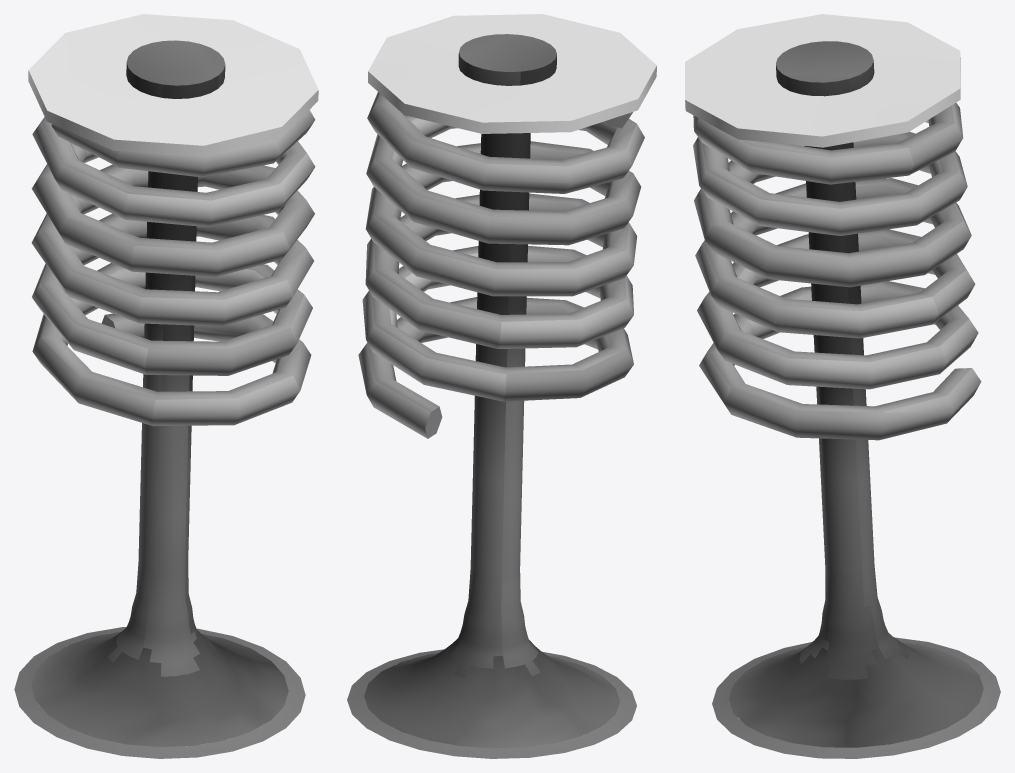
Rendered from valve.glb.
3 renders of one model, left to right at view 1: azimuth 30°, elevation 25°; view 2: azimuth 150°, elevation 25°; view 3: azimuth 270°, elevation 25°, orthographic.
Parts seen in each view (by area): view 1: Cylinder.007_Metall2_0, Cylinder.007_Metall4_0, Cylinder.007_Metall1_0, Cylinder.007_Trenie_C_0; view 2: Cylinder.007_Metall2_0, Cylinder.007_Metall4_0, Cylinder.007_Metall1_0, Cylinder.007_Trenie_C_0; view 3: Cylinder.007_Metall2_0, Cylinder.007_Metall4_0, Cylinder.007_Metall1_0, Cylinder.007_Trenie_C_0.
Boxes of the visible parts, x1,y1,x2,y2 form: Cylinder.007_Metall2_0: [31, 110, 315, 426]; Cylinder.007_Metall4_0: [31, 40, 288, 747]; Cylinder.007_Metall1_0: [28, 14, 318, 156]; Cylinder.007_Trenie_C_0: [14, 627, 305, 758]; Cylinder.007_Metall2_0: [358, 92, 644, 438]; Cylinder.007_Metall4_0: [364, 34, 619, 748]; Cylinder.007_Metall1_0: [368, 14, 656, 133]; Cylinder.007_Trenie_C_0: [347, 649, 636, 758]; Cylinder.007_Metall2_0: [693, 103, 981, 440]; Cylinder.007_Metall4_0: [729, 41, 983, 747]; Cylinder.007_Metall1_0: [685, 14, 960, 147]; Cylinder.007_Trenie_C_0: [712, 637, 1000, 758].
Size of the model in its own units: 0.0394 by 0.0953 by 0.0424.
Materials: 4 (3 with a texture image).
